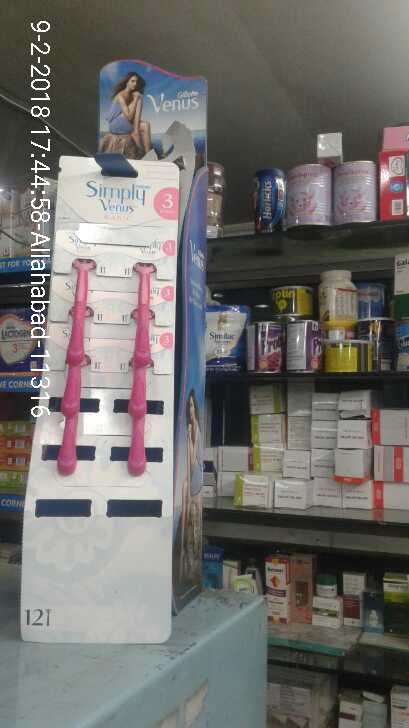reject: (190, 332, 249, 400)
